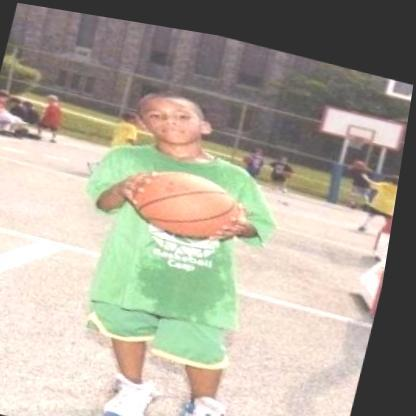basketball: (125, 151, 256, 238)
